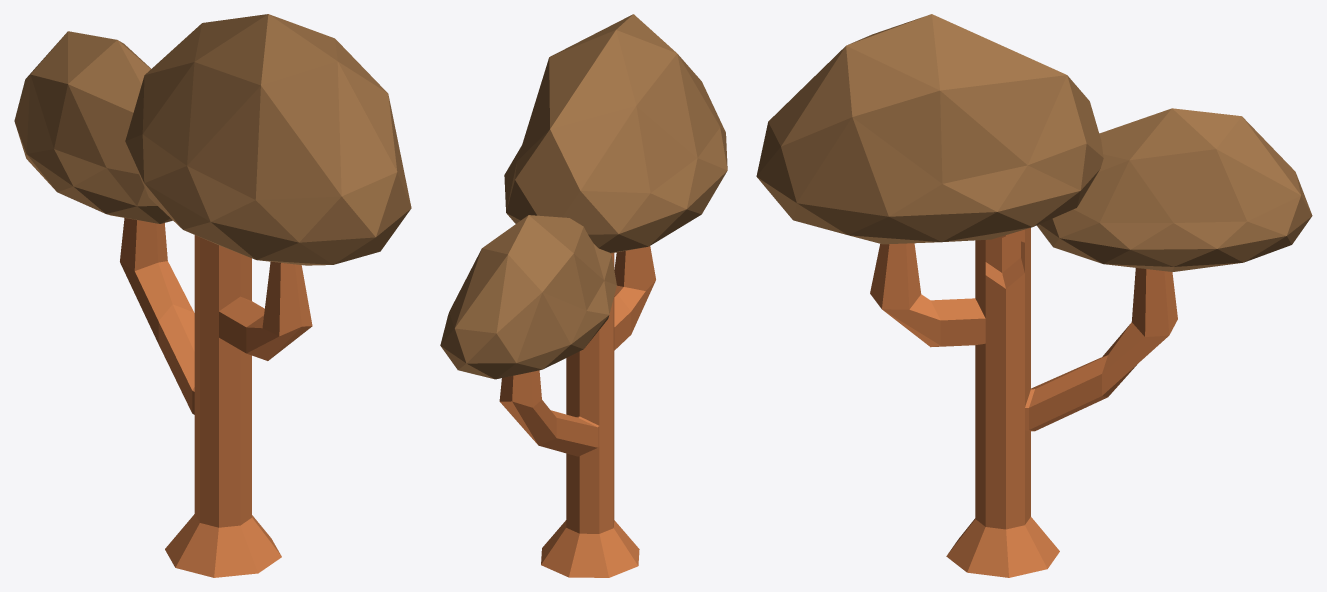
Rendered from TreeWithHole2.fbx.
3 renders of one model, left to right at view 1: azimuth 30°, elevation 25°; view 2: azimuth 150°, elevation 25°; view 3: azimuth 270°, elevation 25°, orthographic. The views are drawn at different scales.
Parts seen in each view (by area): view 1: Icosphere.004, Cylinder.002, Icosphere.005; view 2: Icosphere.004, Icosphere.005, Cylinder.002; view 3: Icosphere.004, Cylinder.002, Icosphere.005.
Part boxes in pixels (bbox=[...]): Icosphere.004: bbox=[125, 14, 411, 265]; Cylinder.002: bbox=[120, 218, 312, 577]; Icosphere.005: bbox=[14, 31, 172, 223]; Icosphere.004: bbox=[504, 14, 727, 253]; Icosphere.005: bbox=[440, 215, 616, 379]; Cylinder.002: bbox=[499, 246, 655, 577]; Icosphere.004: bbox=[756, 14, 1103, 244]; Cylinder.002: bbox=[870, 228, 1177, 577]; Icosphere.005: bbox=[1037, 108, 1312, 271].
Bounding box in the file's own units: 305 × 808 × 749.
